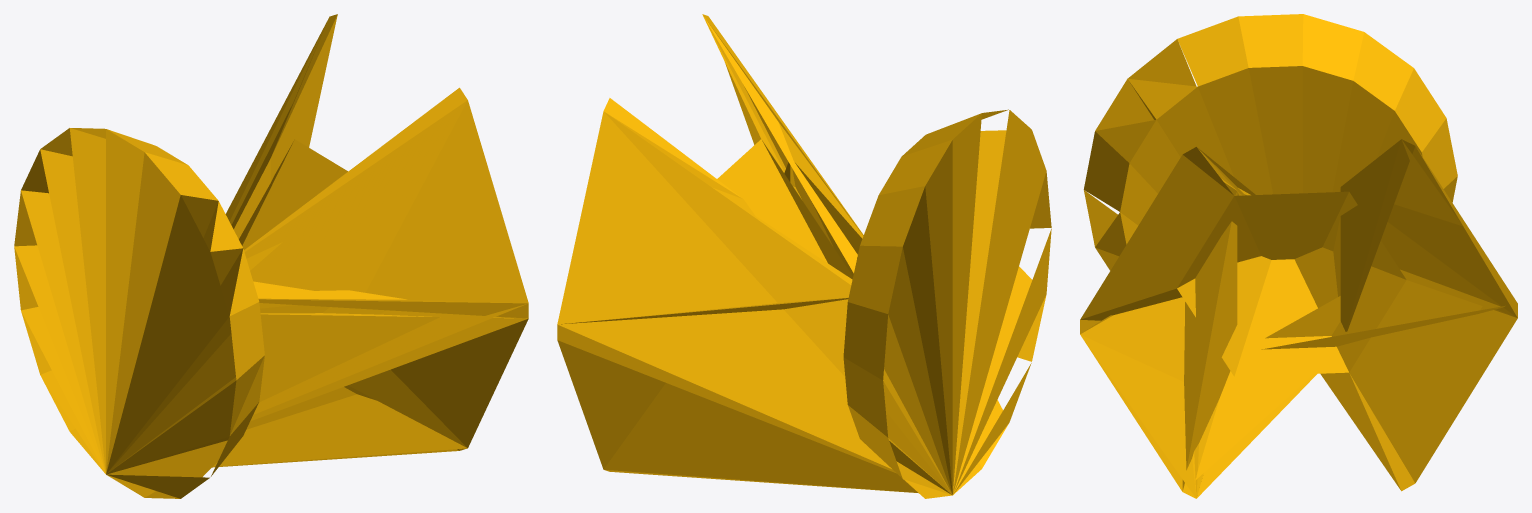
File: S.S._Dolphin_Ionium_jet_2.obj
3 renders of one model, left to right at view 1: azimuth 30°, elevation 25°; view 2: azimuth 150°, elevation 25°; view 3: azimuth 270°, elevation 25°, orthographic. The views are drawn at different scales.
Visible parts, largest first — view 1: S.S._Dolphin_Ionium_jet_2; view 2: S.S._Dolphin_Ionium_jet_2; view 3: S.S._Dolphin_Ionium_jet_2.
Boxes of the visible parts, bbox=[...] form: S.S._Dolphin_Ionium_jet_2: bbox=[14, 14, 528, 498]; S.S._Dolphin_Ionium_jet_2: bbox=[557, 14, 1051, 498]; S.S._Dolphin_Ionium_jet_2: bbox=[1080, 14, 1517, 498].
Bounding box in the file's own units: 1.52 × 1.65 × 1.86.
